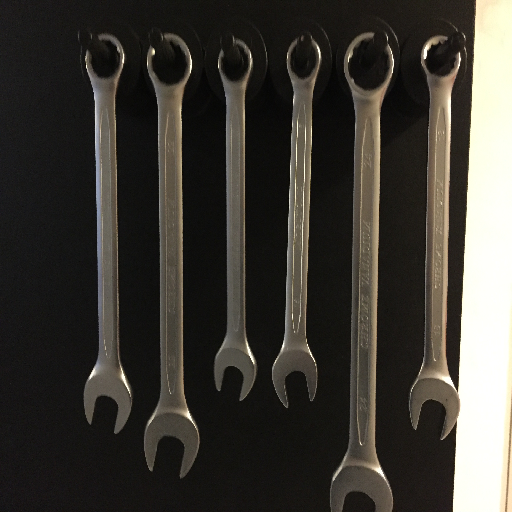bottom: (406, 372, 469, 444), (141, 408, 203, 481), (327, 460, 397, 512), (81, 369, 134, 434), (266, 349, 321, 409), (211, 344, 260, 401)
top: (342, 28, 396, 96), (144, 31, 194, 89), (81, 31, 128, 85), (418, 31, 462, 80), (284, 32, 322, 85), (215, 35, 255, 85)
